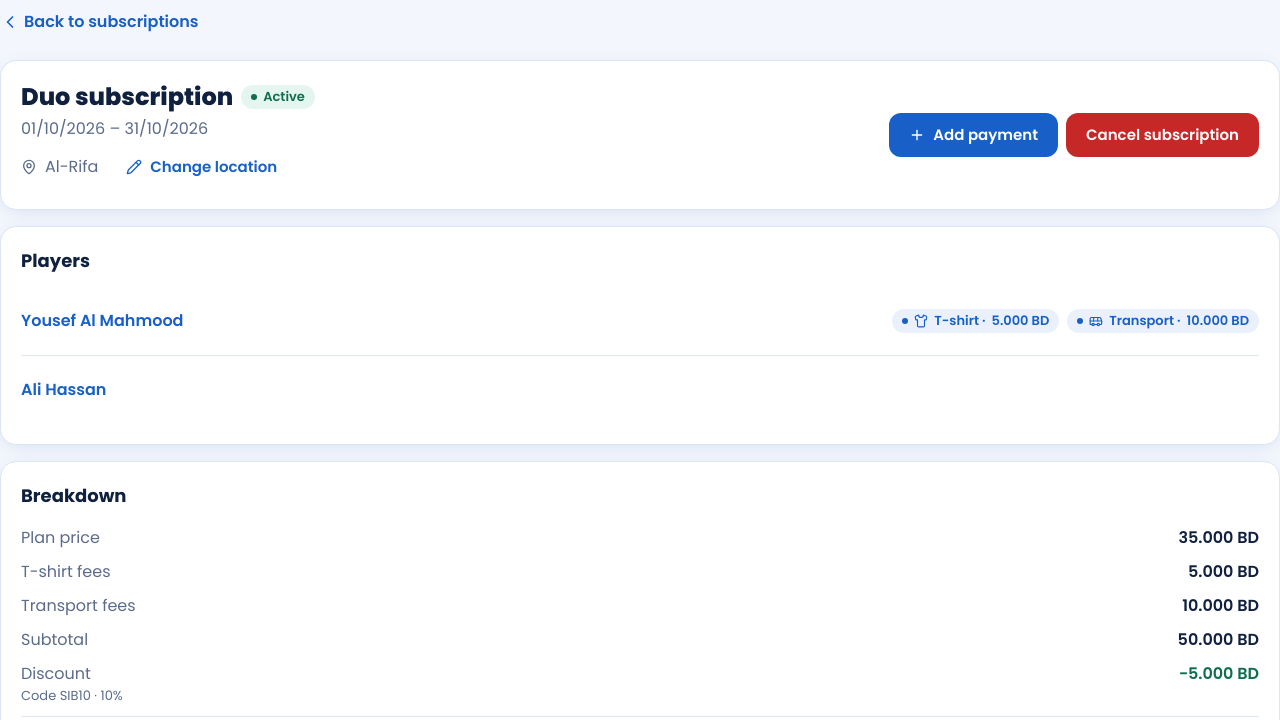
Test: SubscriptionDetailPage › cancelling › cancels with the trimmed reason
Click the button "Cancel subscription" at (1162, 135), box [1066,113,1259,157]
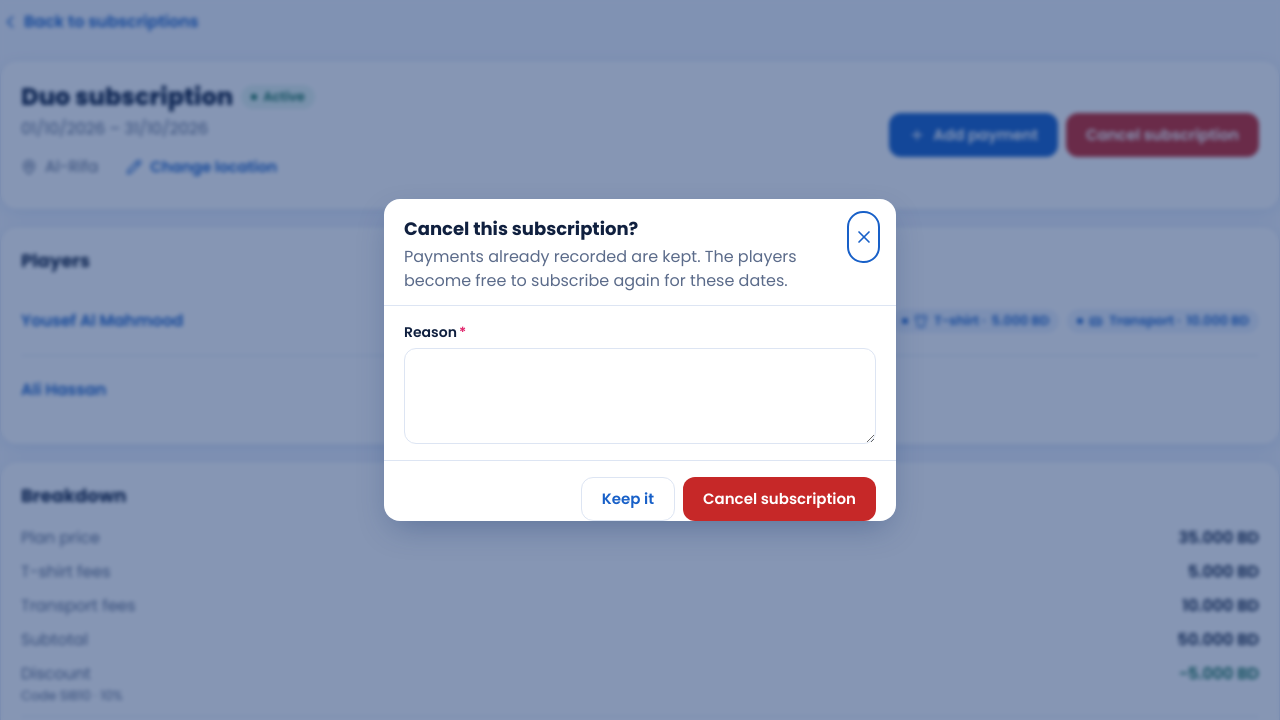
Type "  Moved away " into the text box labelled "Reason*" at (640, 396), box [404,348,876,444]
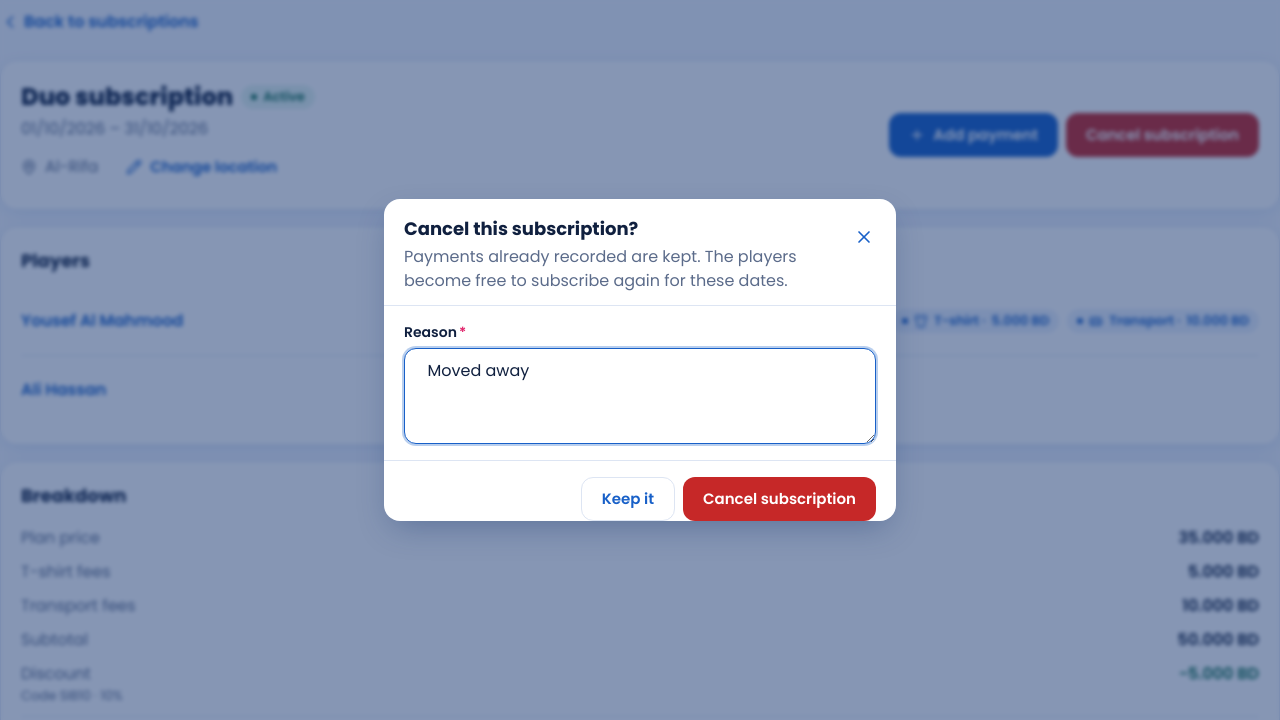
Click the button "Cancel subscription" at (780, 499), box [683,477,876,521]
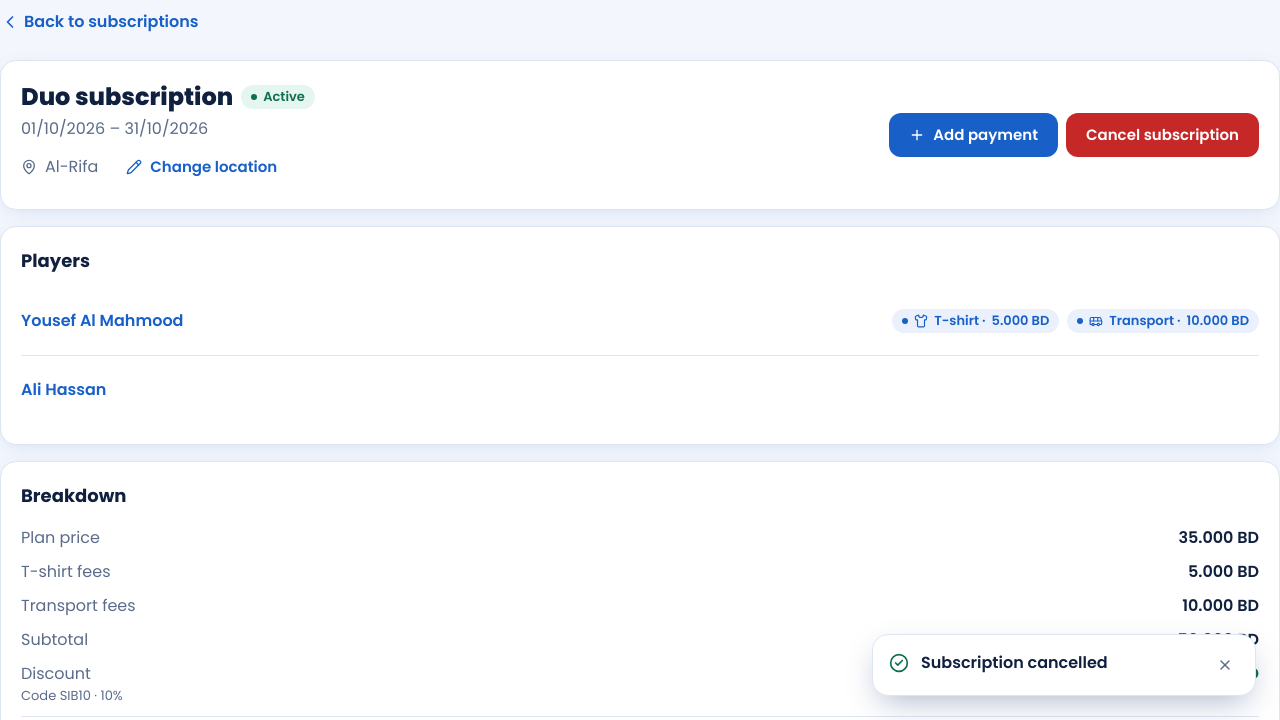
Expected: the text "Subscription cancelled" is shown, [921,651,1108,674]
